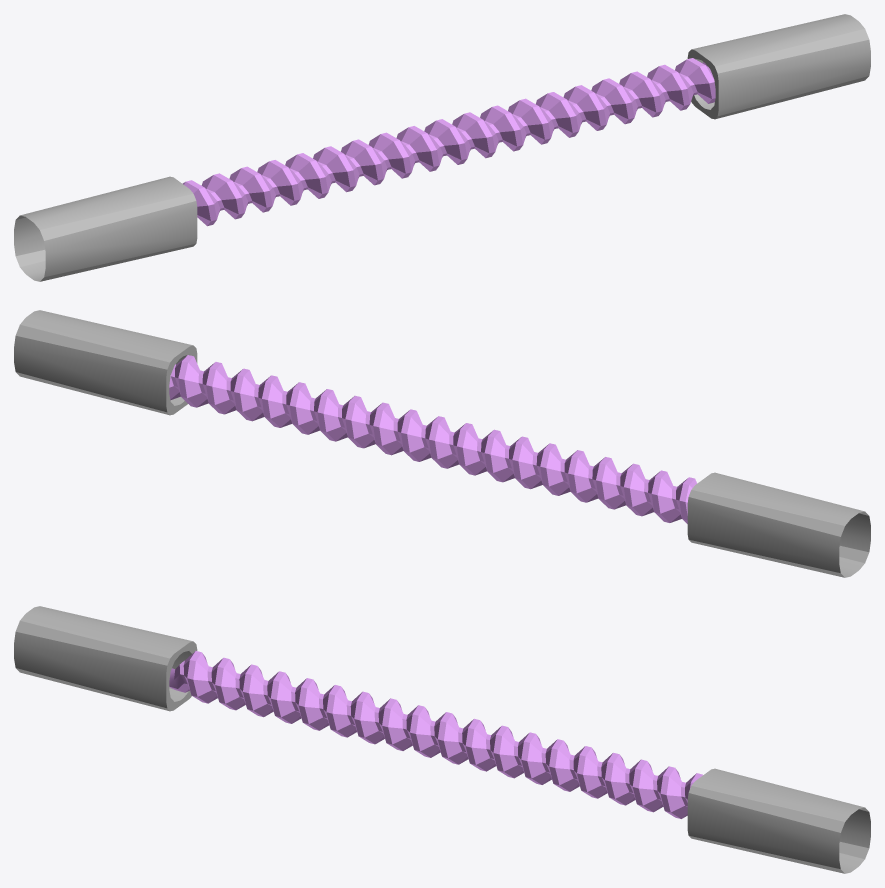
Rendered from cloth_spiral_road .fbx.
3 views of the same model, one above another, from view 1: azimuth 30°, elevation 25°; view 2: azimuth 150°, elevation 25°; view 3: azimuth 330°, elevation 25° (orthographic).
Visible parts, largest first — view 1: cloth_spiral_road; view 2: cloth_spiral_road; view 3: cloth_spiral_road.
Part boxes in pixels (x1=…): cloth_spiral_road: x1=14, y1=14, x2=870, y2=281; cloth_spiral_road: x1=14, y1=310, x2=870, y2=577; cloth_spiral_road: x1=14, y1=606, x2=870, y2=873.
Bounding box in the file's own units: 1917 × 128 × 128.
